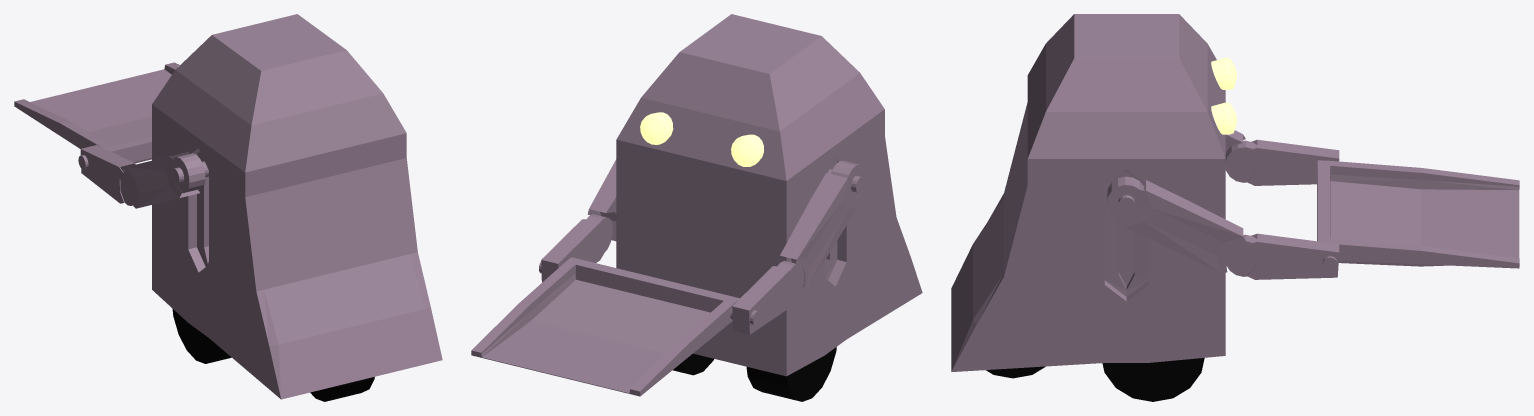
The model's file is Robot.glb.
3 renders of one model, left to right at view 1: azimuth 30°, elevation 25°; view 2: azimuth 150°, elevation 25°; view 3: azimuth 270°, elevation 25°, orthographic. The views are drawn at different scales.
Visible parts, largest first — view 1: Robot, Pá, Braco, Antebraco, RightWheel, BackWheel; view 2: Robot, Pá, Braco, Antebraco, RightWheel, Eyes, FrontWheel_01.002; view 3: Robot, Pá, Antebraco, Braco, FrontWheel_01.002, Eyes.
Part boxes in pixels (left/top/right/bottom): Robot: left=152, top=14, right=442, bottom=399; Pá: left=14, top=62, right=179, bottom=163; Braco: left=124, top=151, right=208, bottom=208; Antebraco: left=78, top=145, right=135, bottom=205; RightWheel: left=172, top=308, right=231, bottom=363; BackWheel: left=310, top=377, right=374, bottom=401; Robot: left=616, top=14, right=922, bottom=376; Pá: left=471, top=257, right=739, bottom=396; Braco: left=587, top=159, right=864, bottom=289; Antebraco: left=539, top=214, right=803, bottom=334; RightWheel: left=746, top=347, right=836, bottom=401; Eyes: left=640, top=112, right=763, bottom=166; FrontWheel_01.002: left=673, top=353, right=713, bottom=375; Robot: left=951, top=14, right=1225, bottom=371; Pá: left=1317, top=160, right=1519, bottom=268; Antebraco: left=1225, top=139, right=1339, bottom=279; Braco: left=1107, top=130, right=1245, bottom=272; FrontWheel_01.002: left=1102, top=358, right=1204, bottom=401; Eyes: left=1211, top=58, right=1236, bottom=134.
Bounding box in the file's own units: 2.58 × 3.7 × 5.74.
